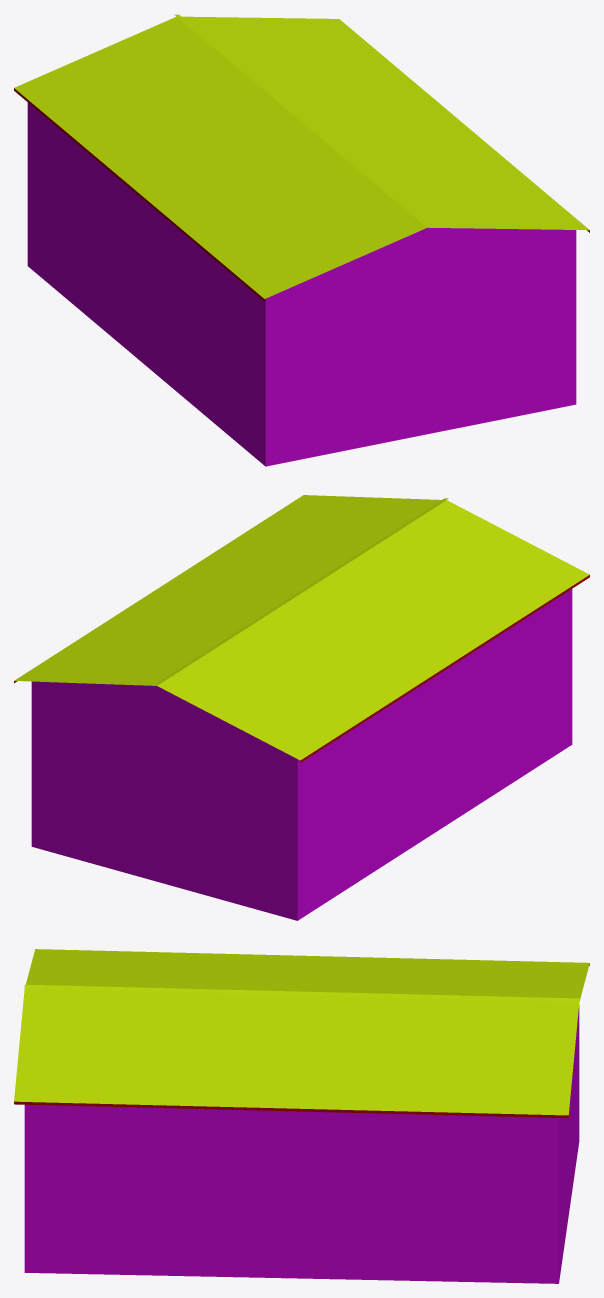
3 views of the same model, one above another, from view 1: azimuth 30°, elevation 25°; view 2: azimuth 150°, elevation 25°; view 3: azimuth 270°, elevation 25° (orthographic). The views are drawn at different scales.
Visible parts, largest first — view 1: sc_75; view 2: sc_75; view 3: sc_75.
Boxes of the visible parts, x1=… form: sc_75: x1=14, y1=14, x2=589, y2=466; sc_75: x1=14, y1=495, x2=589, y2=920; sc_75: x1=14, y1=949, x2=589, y2=1283.
Bounding box in the file's own units: 15.48 × 9.31 × 22.64.
